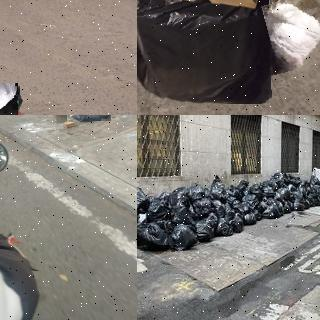Garbage: (137, 0, 270, 105), (260, 0, 320, 71), (167, 224, 198, 251), (137, 222, 173, 245), (167, 184, 190, 211), (194, 216, 215, 239), (209, 177, 229, 201), (137, 182, 150, 215), (215, 218, 236, 236), (259, 202, 280, 218), (66, 115, 111, 121), (248, 182, 263, 197), (277, 186, 291, 200), (243, 211, 256, 224)
